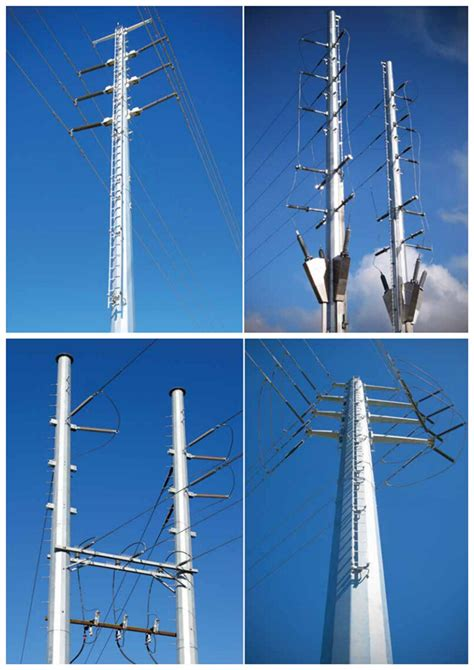pole: (281, 343, 461, 670), (66, 12, 190, 343)
